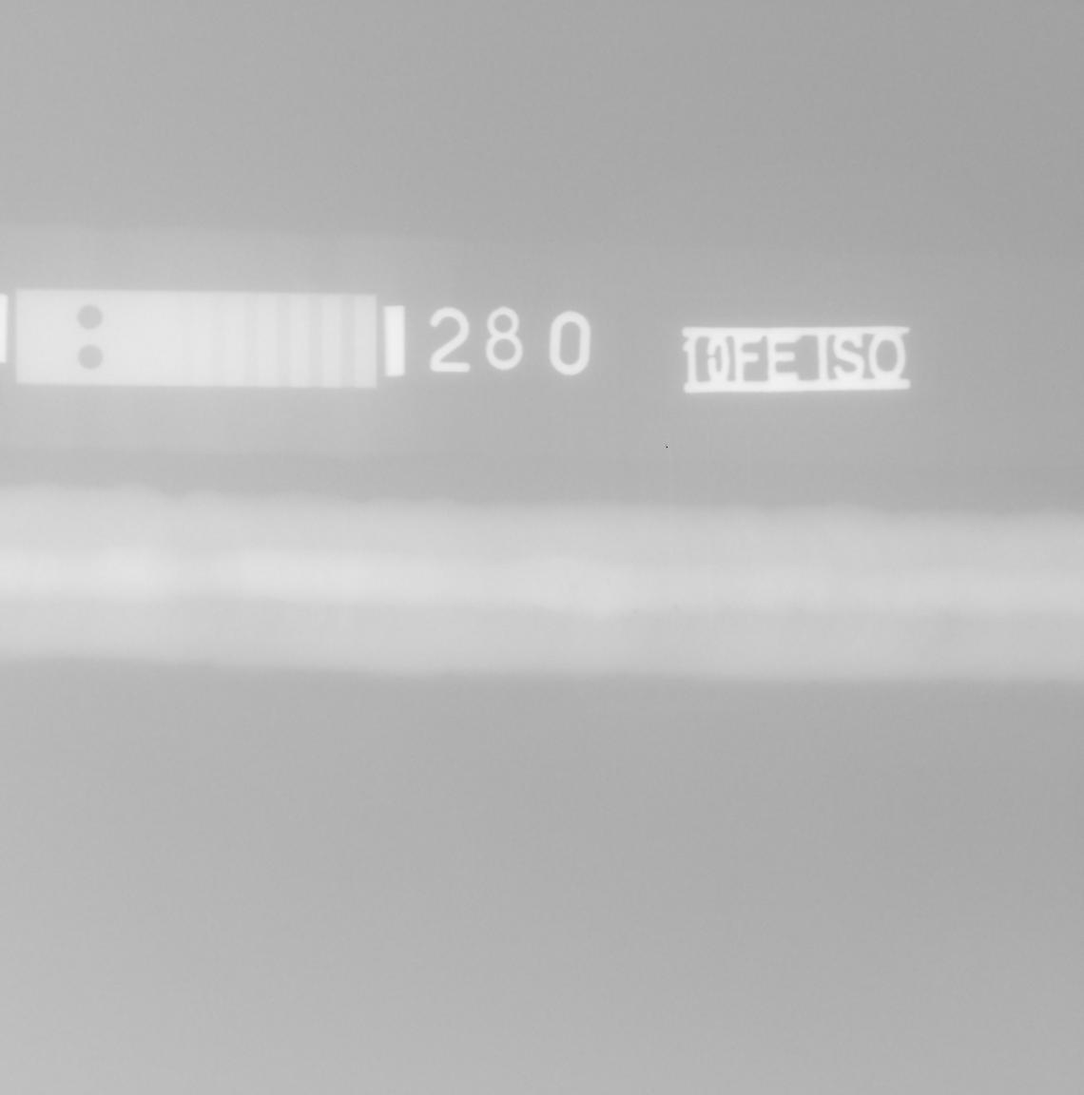Pore/Porosity: (673, 602, 678, 611), (633, 610, 638, 614)
Reference Standard 2: (15, 289, 376, 388)
